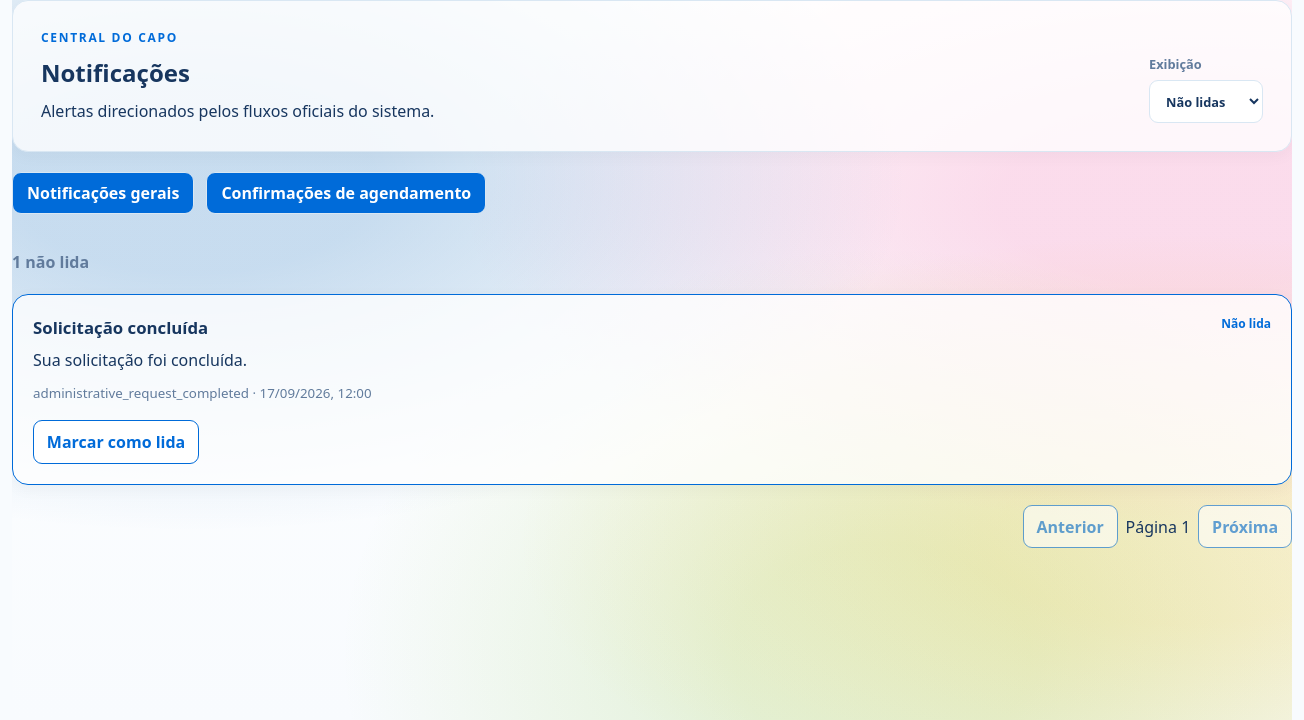
NotificationsPage › filtra não lidas e recarrega do backend após marcar como lida
Expected: the heading "Solicitação concluída" is shown, [33,315,208,340]
Expected: the dropdown named "Filtrar notificações" shows "Não lidas", [1149,80,1263,123]
Click the button "Marcar como lida" at (116, 442), box [33,420,199,464]
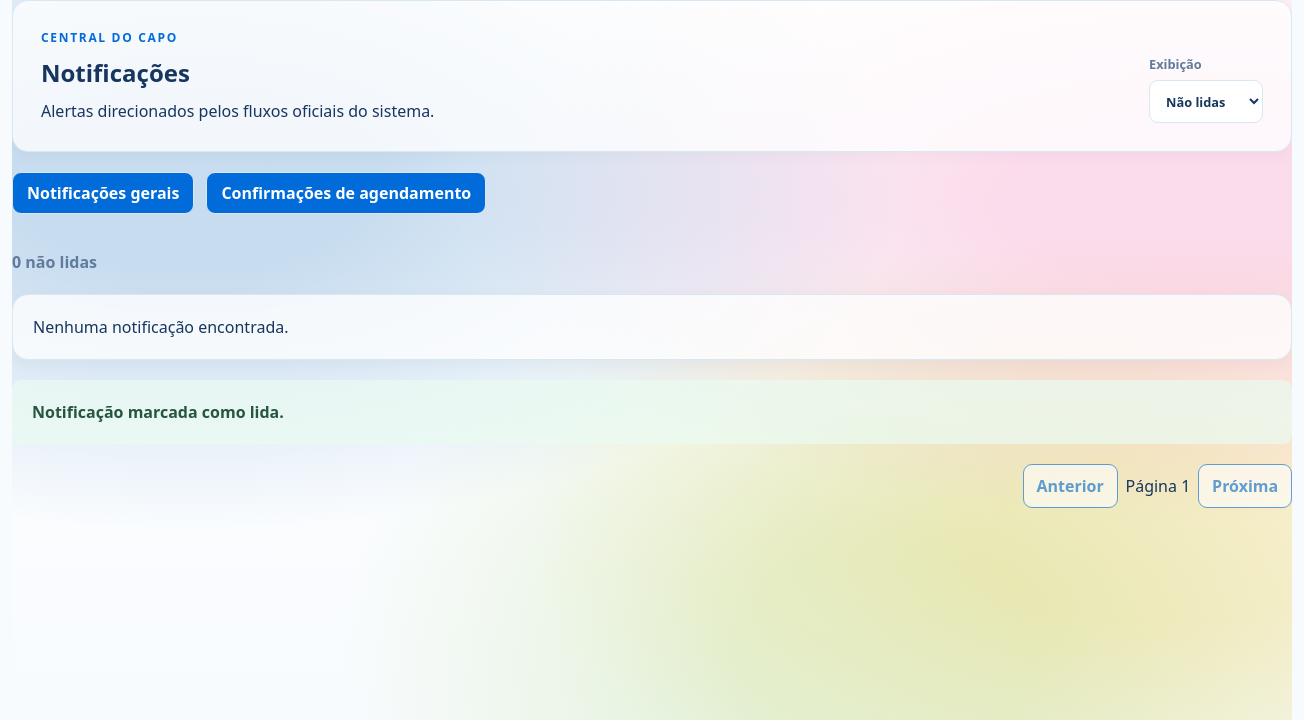
Result: the text "Nenhuma notificação encontrada." is shown at [12,294,1292,360]
